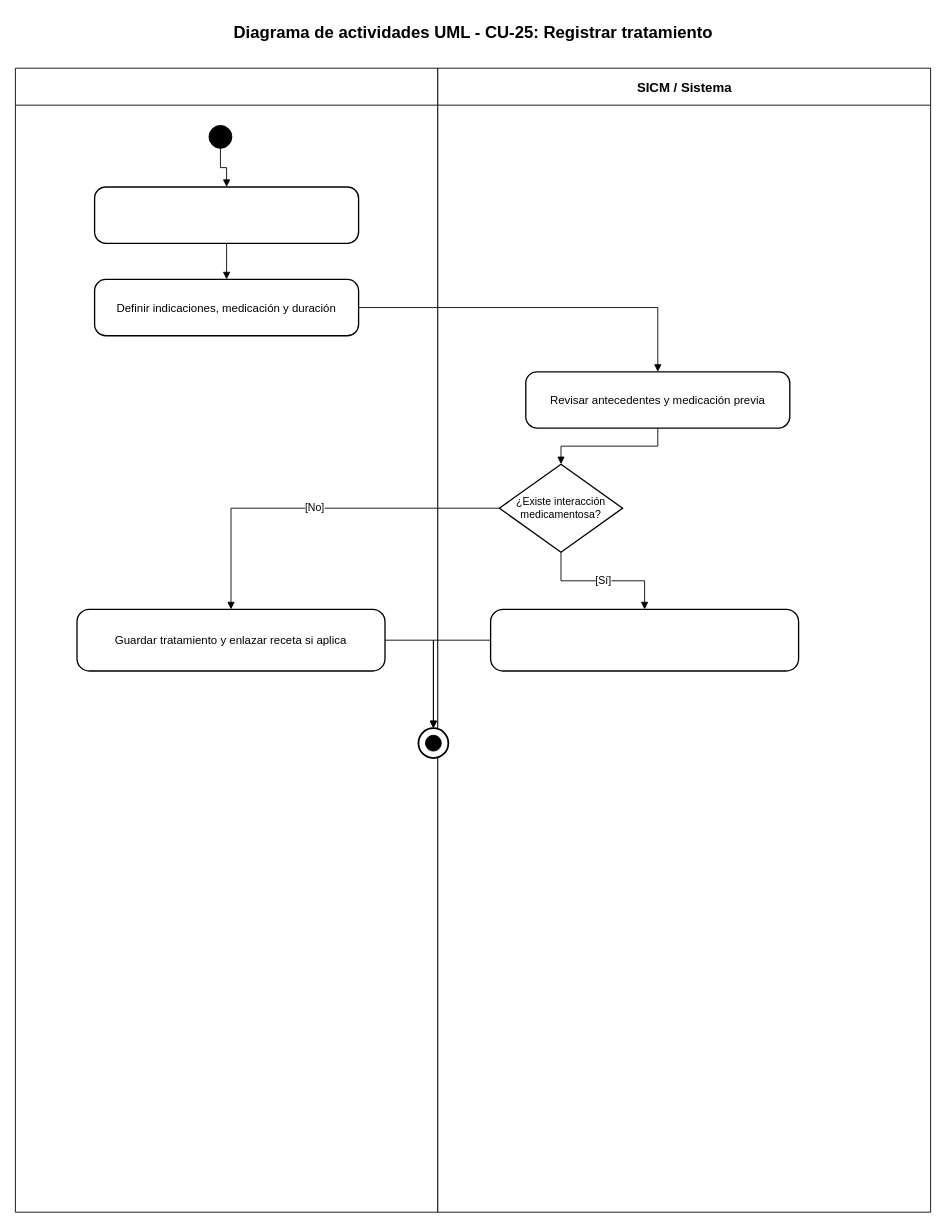
The diagram is 946 pixels wide and 1228 high, and some of its shapes have lost their labels. Each missing label, with the box of its shape:
Mostrar alerta y solicitar confirmación: (490, 608, 799, 671)
Médico: (15, 67, 438, 1212)
Seleccionar diagnóstico: (94, 186, 359, 244)
